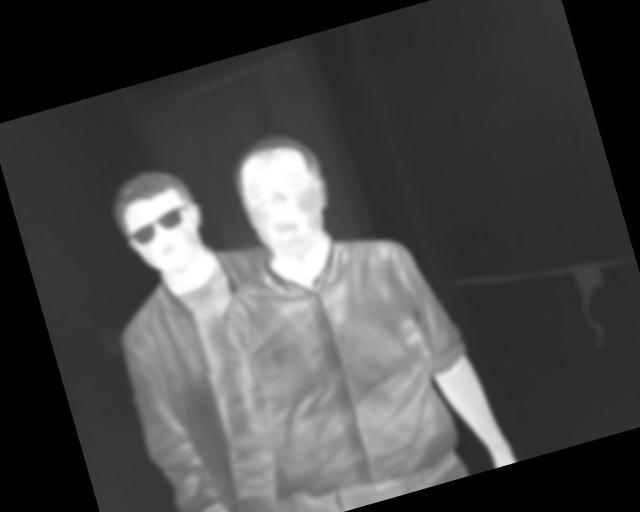face: (226, 124, 342, 263), (104, 158, 216, 284)
